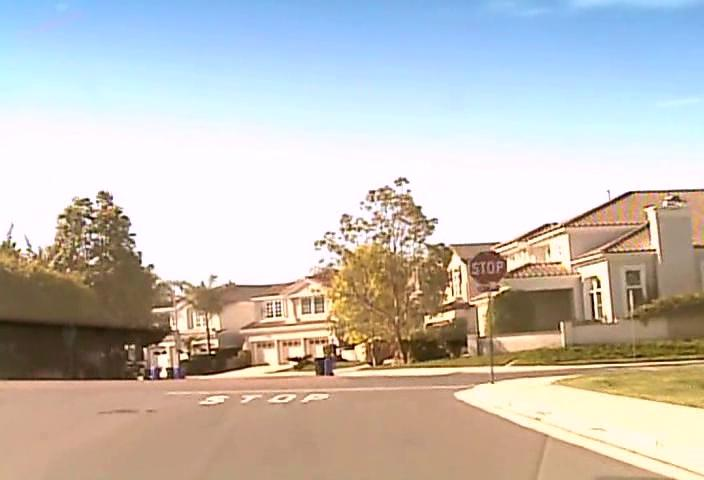stop: (469, 250, 507, 286)
